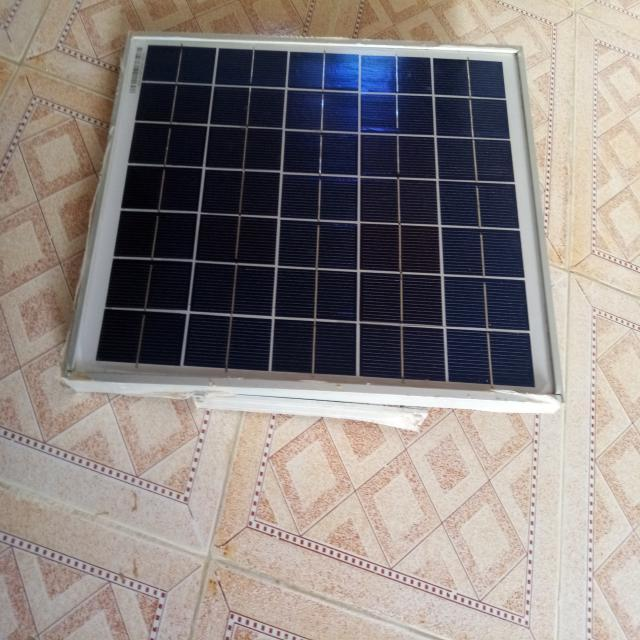no faulty: (63, 35, 561, 396)
